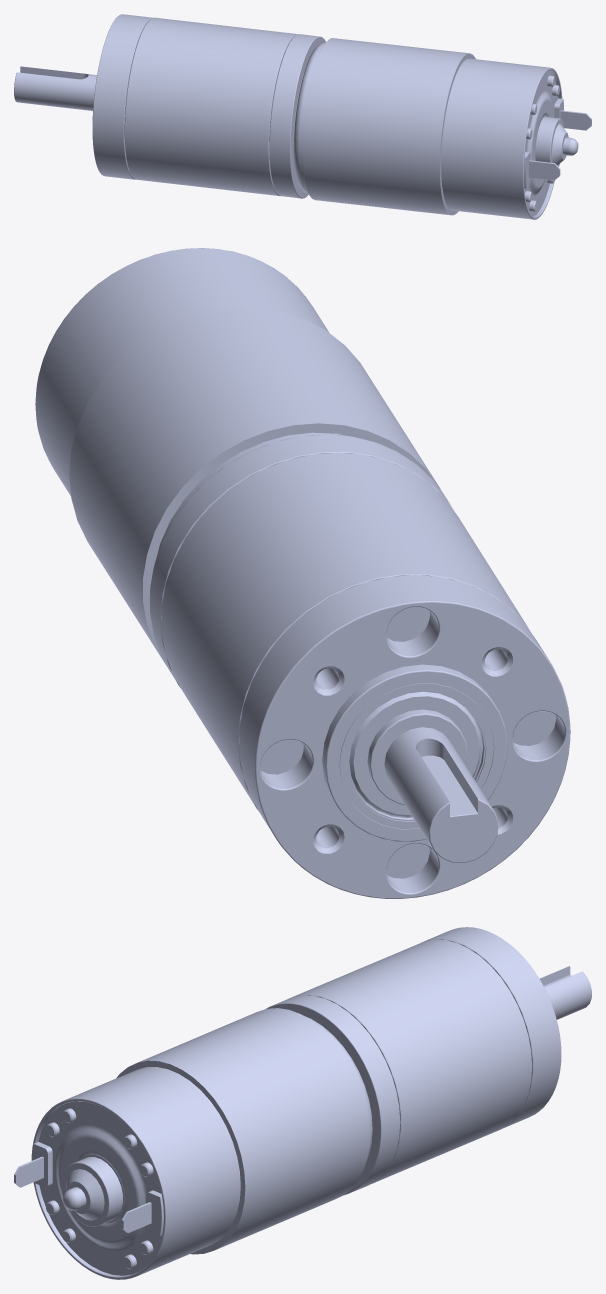
Rendered from body8_visual.obj.
3 views of the same model, one above another, from view 1: azimuth 30°, elevation 25°; view 2: azimuth 150°, elevation 25°; view 3: azimuth 270°, elevation 25° (orthographic). The views are drawn at different scales.
Parts seen in each view (by area): view 1: Body8; view 2: Body8; view 3: Body8.
Boxes of the visible parts, box(x1,y1,x2,y2) form: Body8: box(14, 14, 591, 219); Body8: box(35, 248, 570, 898); Body8: box(14, 927, 591, 1279).
Bounding box in the file's own units: 12.8 × 4.5 × 12.8.
